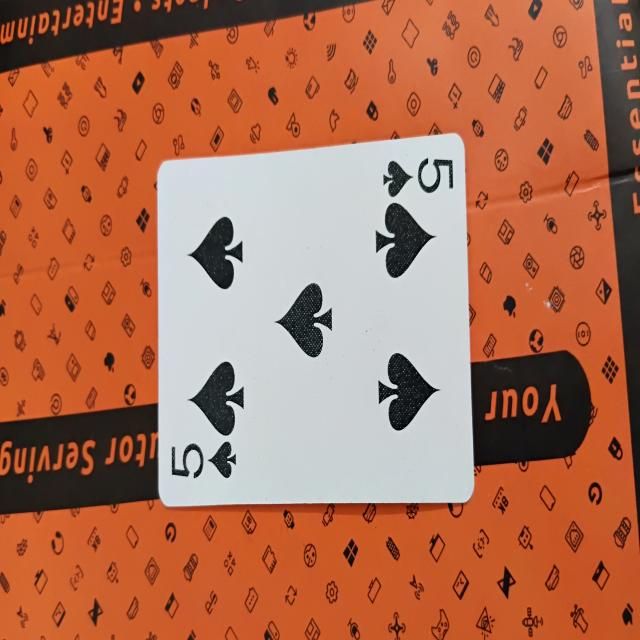5S: (156, 126, 468, 505)
